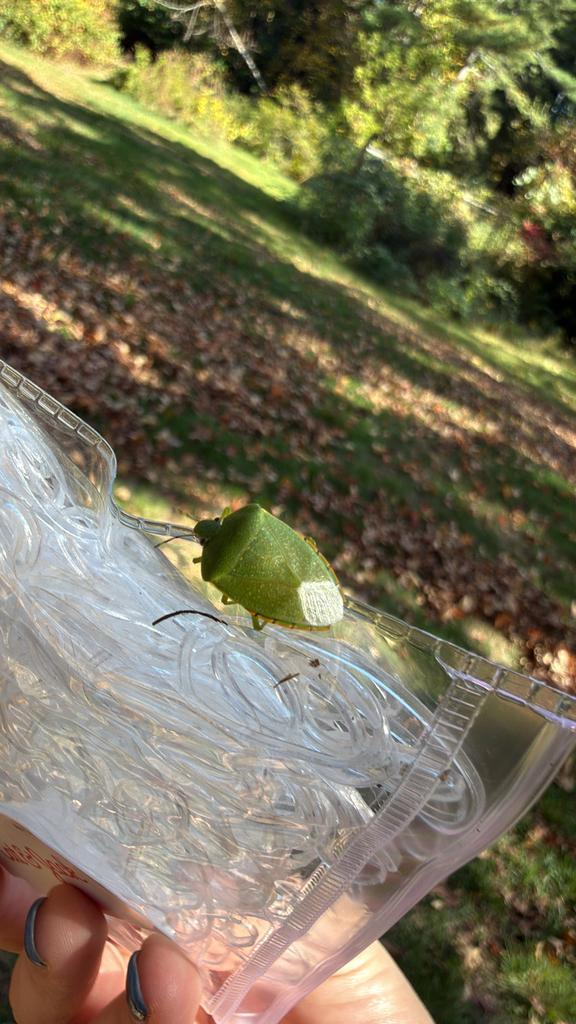stink_bugs: (135, 447, 383, 674)
